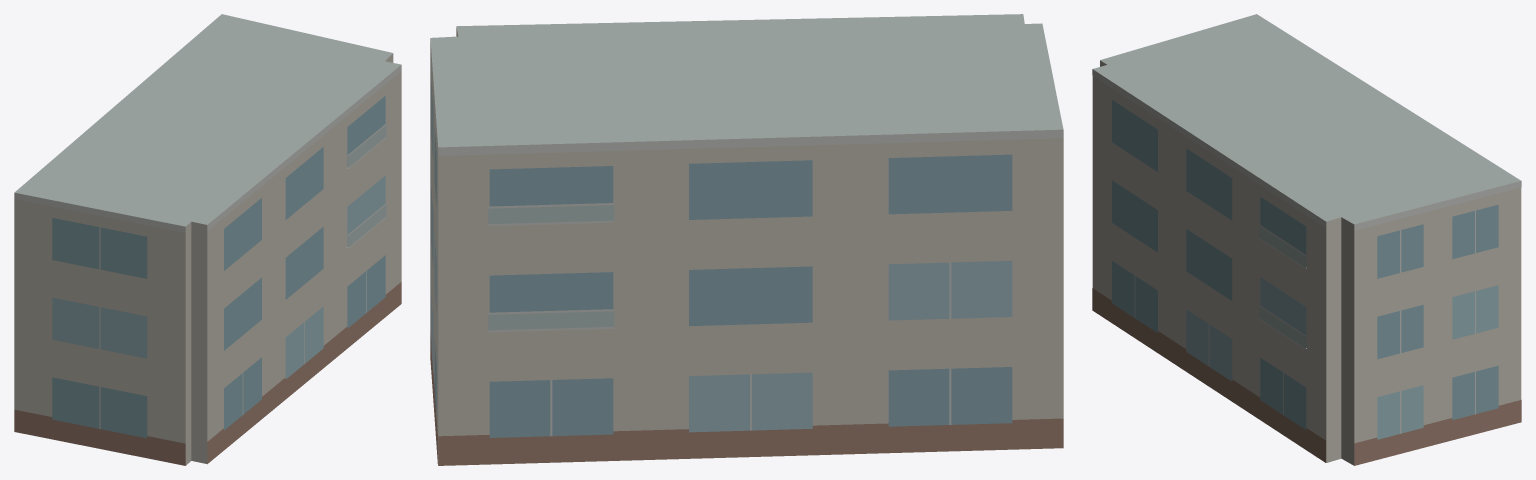
The model's file is survey-upis-32892644.glb.
3 views of the same model, side by side, from view 1: azimuth 30°, elevation 25°; view 2: azimuth 150°, elevation 25°; view 3: azimuth 270°, elevation 25° (orthographic). The views are drawn at different scales.
Visible parts, largest first — view 1: survey-upis-32892644.tmp; view 2: survey-upis-32892644.tmp; view 3: survey-upis-32892644.tmp.
Boxes of the visible parts, left/top/right/bottom form: survey-upis-32892644.tmp: left=14, top=14, right=401, bottom=465; survey-upis-32892644.tmp: left=430, top=14, right=1063, bottom=465; survey-upis-32892644.tmp: left=1092, top=14, right=1521, bottom=465.
Size of the model in its own units: 17.11 by 9.15 by 14.74.
